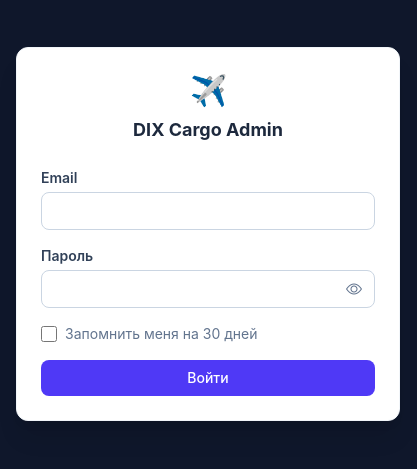
Scenario: LoginView › shows a generic network error for non-ApiError failures
In the field: (208, 211) top-left (41, 192), bottom-right (375, 230), type "a@b.com"
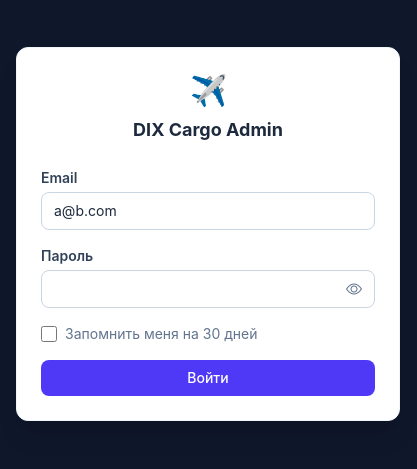
In the password field: (188, 289) top-left (42, 271), bottom-right (334, 307), type "pw"
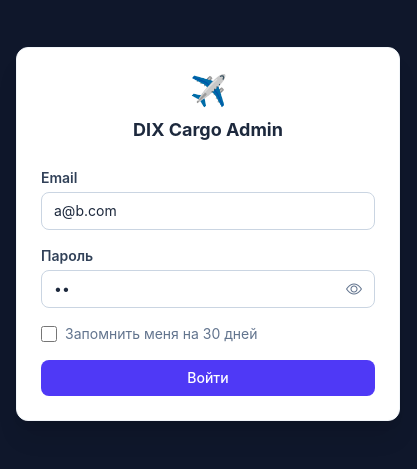
Submit the form, box top-left (41, 168), bottom-right (375, 396)
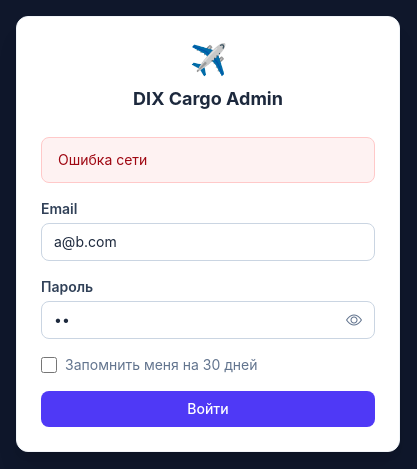
Expected: the text "Ошибка сети" is shown, top-left (41, 137), bottom-right (375, 183)
